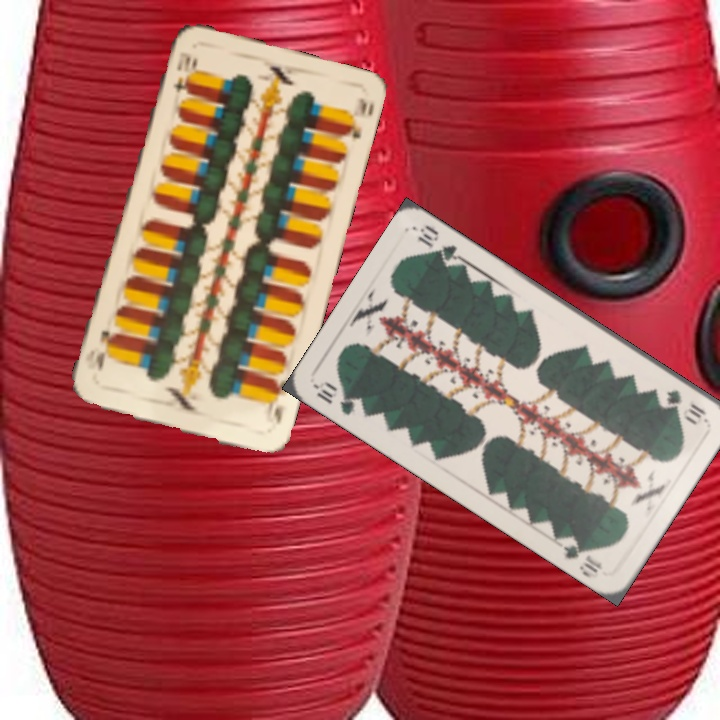E10: (263, 375, 291, 426), (169, 48, 193, 96)
G10: (312, 376, 368, 418), (661, 386, 709, 425)
